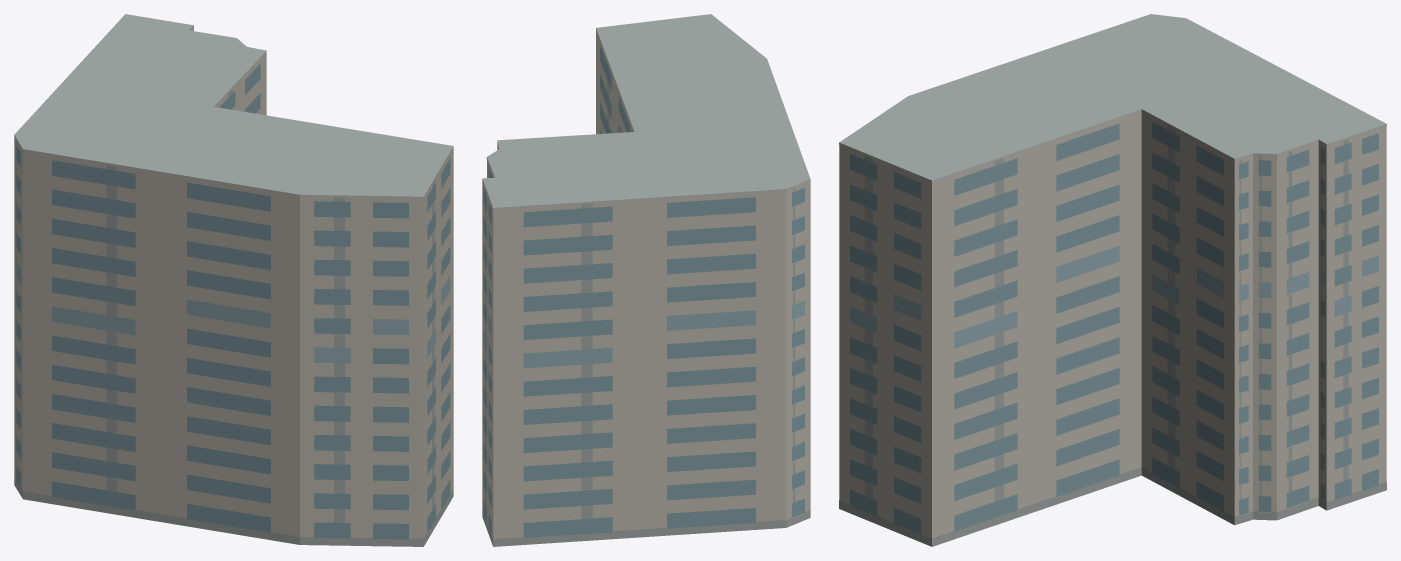
Rendered from residential-50d3dc4c-d899-450f-9d34-ac9a6d94b4ba.glb.
3 views of the same model, side by side, from view 1: azimuth 30°, elevation 25°; view 2: azimuth 150°, elevation 25°; view 3: azimuth 270°, elevation 25° (orthographic). The views are drawn at different scales.
Parts seen in each view (by area): view 1: residential-50d3dc4c-d899-450f-9d34-ac9a6d94b4ba.tmp; view 2: residential-50d3dc4c-d899-450f-9d34-ac9a6d94b4ba.tmp; view 3: residential-50d3dc4c-d899-450f-9d34-ac9a6d94b4ba.tmp.
Boxes of the visible parts, x1,y1,x2,y2 form: residential-50d3dc4c-d899-450f-9d34-ac9a6d94b4ba.tmp: (14, 14, 453, 546); residential-50d3dc4c-d899-450f-9d34-ac9a6d94b4ba.tmp: (482, 14, 810, 546); residential-50d3dc4c-d899-450f-9d34-ac9a6d94b4ba.tmp: (839, 14, 1386, 546).
Size of the model in its own units: 38.99 by 40 by 54.19.
